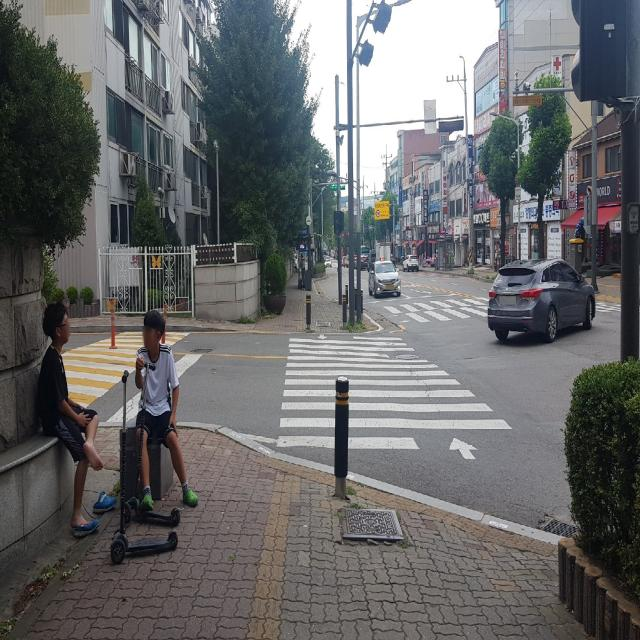횡단보도: (276, 334, 513, 462), (384, 299, 489, 319)
